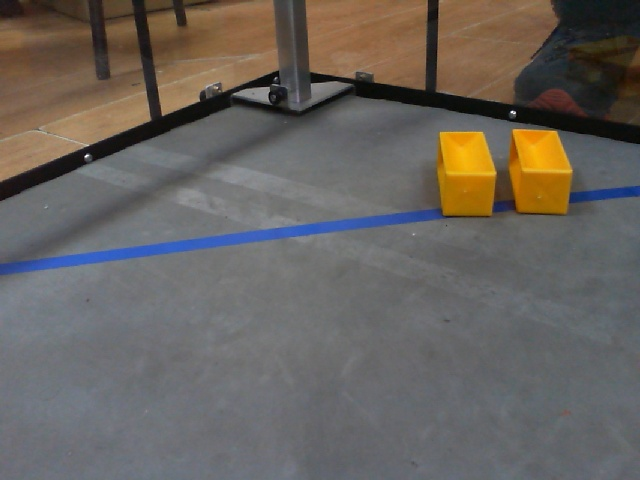YellowSample: (506, 126, 576, 220), (435, 129, 500, 220)
